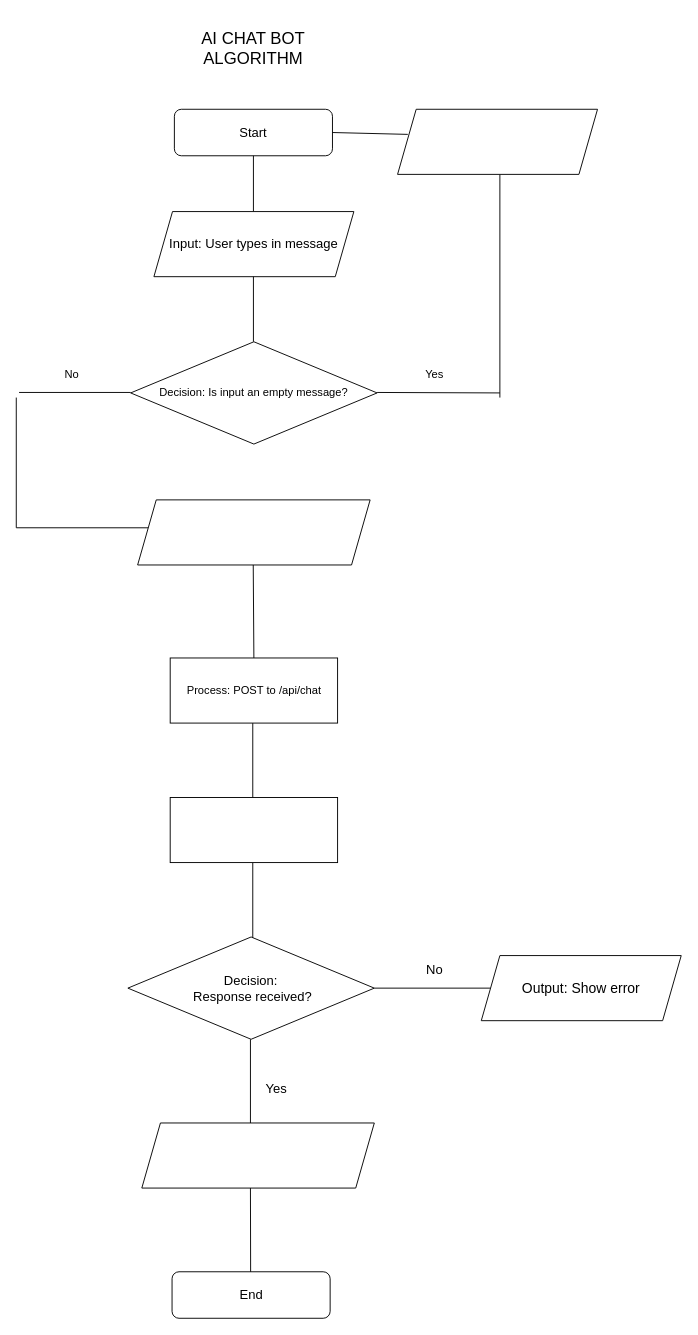
The diagram is 698 pixels wide and 1335 high, and some of its shapes have lost their labels. Here are the shapes that lost their labels. From the top down, the centre of each, then its label:
At (497,141): "Output: Do nothing".
At (253,532): "Output: Display user input/message in chat UI".
At (253,830): "Process: Show loading indicator".
At (257,1155): "Output: Display AI response in chat UI".
